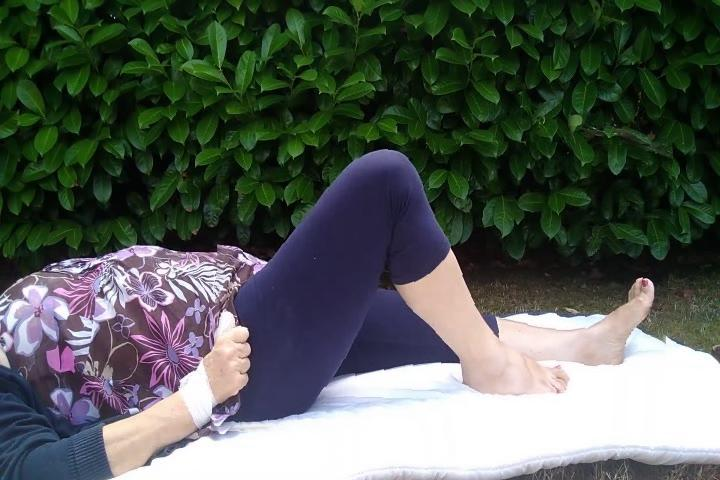lowerbody: (215, 136, 671, 444)
